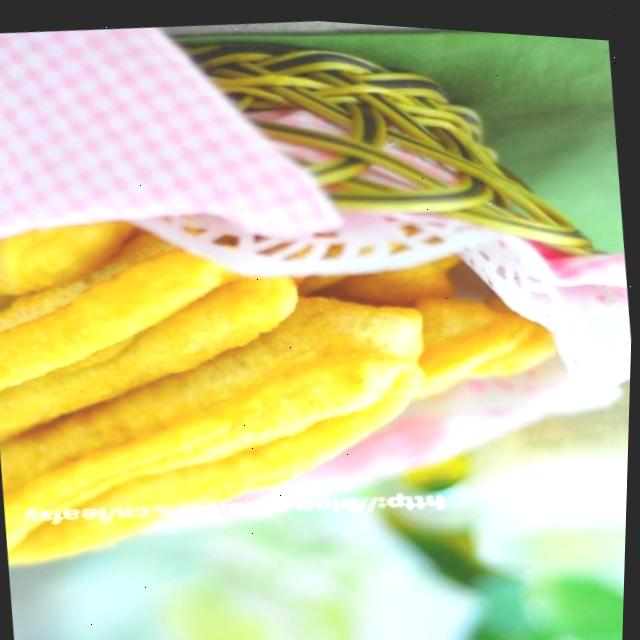炸货点心: (0, 25, 639, 640)
